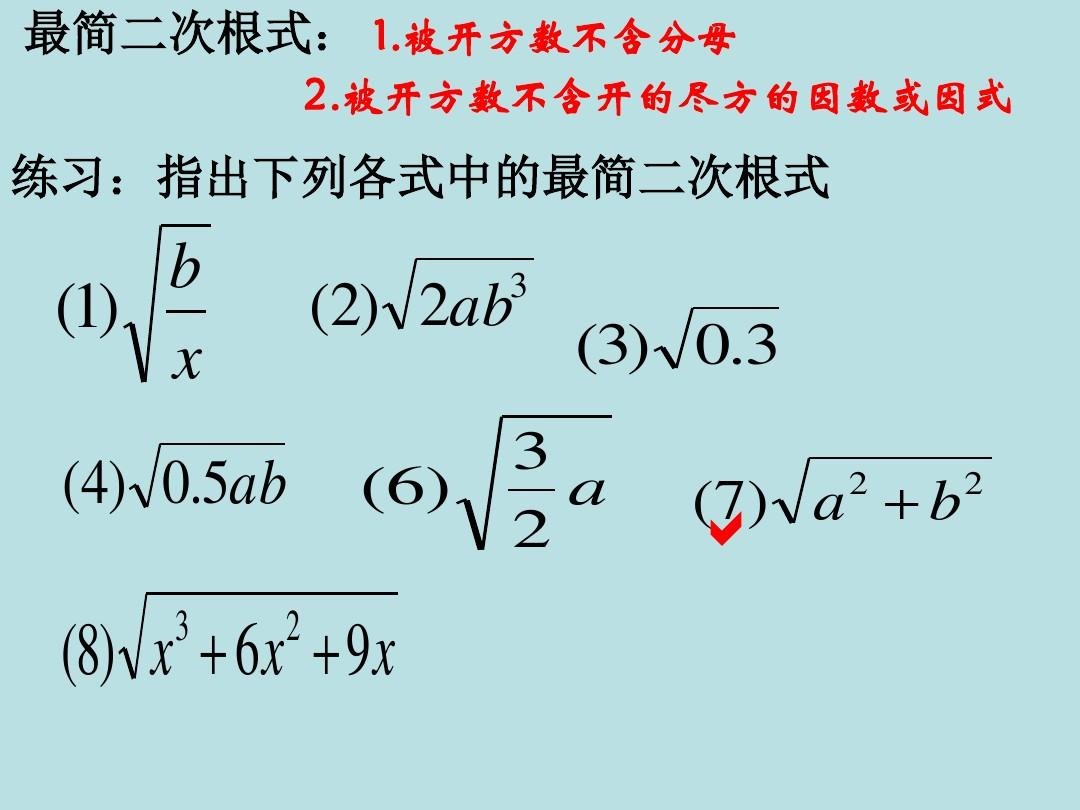cube: (510, 267, 534, 298), (168, 611, 189, 642)
division: (157, 302, 206, 322), (501, 480, 547, 501)
sqrt: (120, 584, 397, 686), (454, 412, 614, 560), (768, 448, 999, 530), (125, 221, 217, 393), (379, 252, 533, 343), (131, 438, 284, 508), (659, 299, 783, 377)
square: (280, 605, 312, 647), (846, 468, 873, 498), (960, 468, 988, 495)
